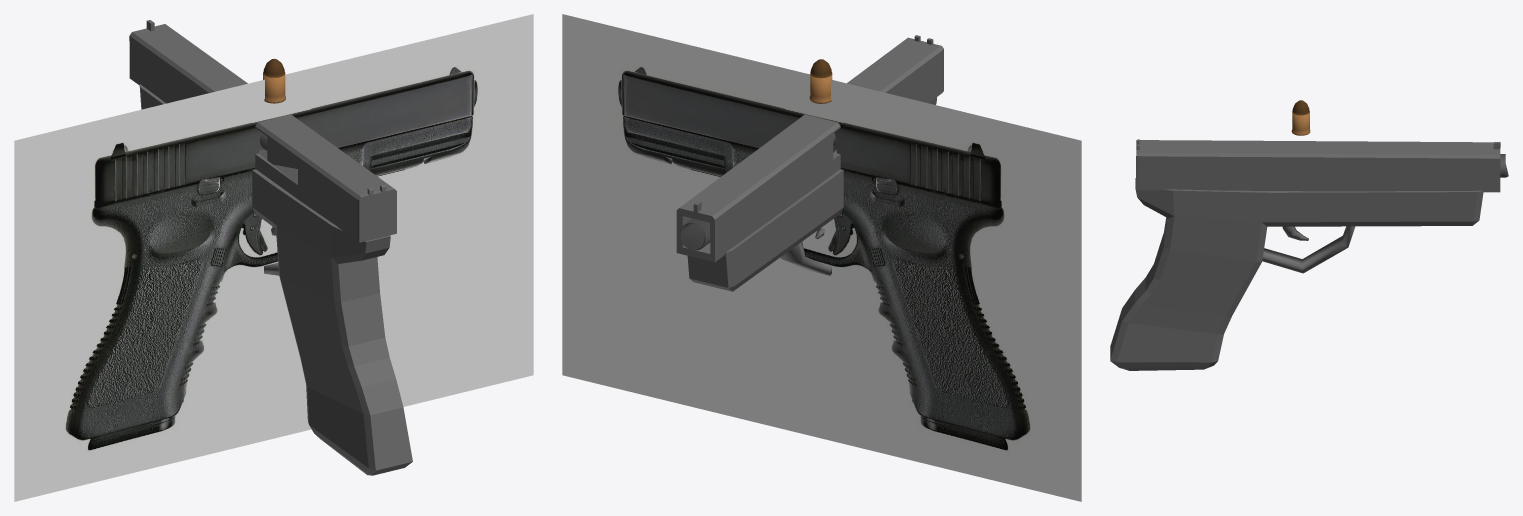
The model's file is Glock.glb.
3 renders of one model, left to right at view 1: azimuth 30°, elevation 25°; view 2: azimuth 150°, elevation 25°; view 3: azimuth 270°, elevation 25°, orthographic. The views are drawn at different scales.
Parts seen in each view (by area): view 1: 12444640_web1_gun, Cube, Cube.001, Cylinder.001, Cube.002; view 2: 12444640_web1_gun, Cube.001, Cube, Cylinder.001, Cylinder, Cube.003; view 3: Cube, Cube.001, Cube.003, Cylinder.001.
Boxes of the visible parts, x1=… form: 12444640_web1_gun: x1=14, y1=14, x2=533, y2=501; Cube: x1=139, y1=84, x2=412, y2=475; Cube.001: x1=129, y1=20, x2=396, y2=242; Cylinder.001: x1=263, y1=58, x2=285, y2=103; Cube.002: x1=267, y1=137, x2=297, y2=168; 12444640_web1_gun: x1=562, y1=14, x2=1081, y2=501; Cube.001: x1=676, y1=35, x2=943, y2=262; Cube: x1=687, y1=97, x2=936, y2=291; Cylinder.001: x1=809, y1=59, x2=832, y2=103; Cylinder: x1=680, y1=133, x2=836, y2=250; Cube.003: x1=780, y1=242, x2=831, y2=275; Cube: x1=1110, y1=178, x2=1483, y2=370; Cube.001: x1=1136, y1=139, x2=1500, y2=192; Cube.003: x1=1262, y1=226, x2=1355, y2=273; Cylinder.001: x1=1291, y1=100, x2=1310, y2=135.
Size of the model in its own units: 1.5 by 1.05 by 1.26.
Materials: 5 (1 with a texture image).
